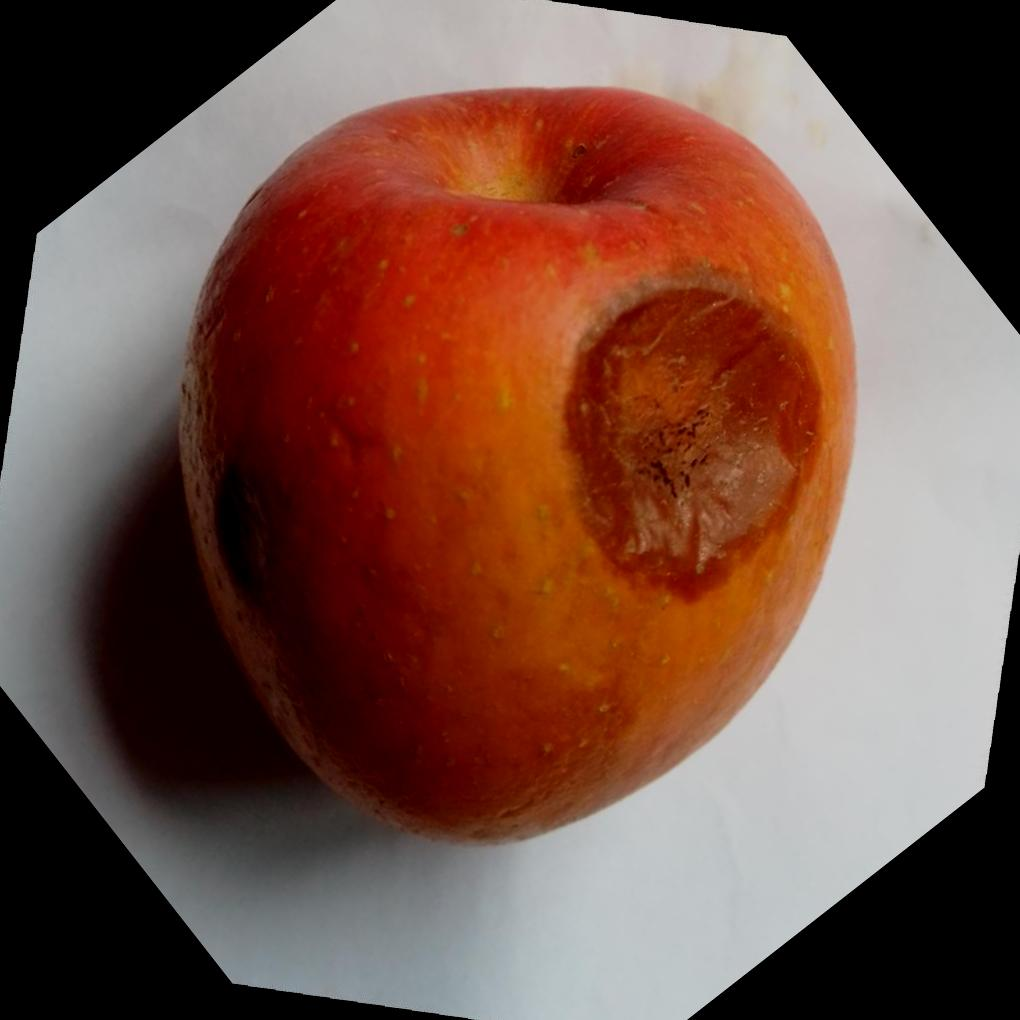FreshOrange: (173, 84, 862, 851)
